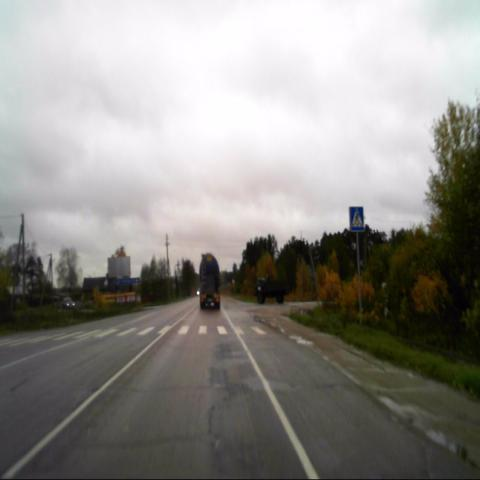5_19_1: (348, 206, 365, 234)
